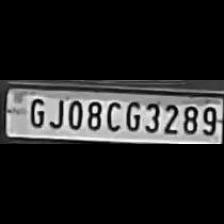0: (64, 97, 84, 129)
2: (160, 100, 180, 134)
3: (140, 99, 160, 134)
8: (84, 97, 103, 131), (180, 102, 198, 134)
9: (198, 102, 218, 136)
C: (104, 98, 122, 132)
G: (24, 95, 46, 127), (122, 98, 140, 132)
J: (47, 96, 65, 130)
